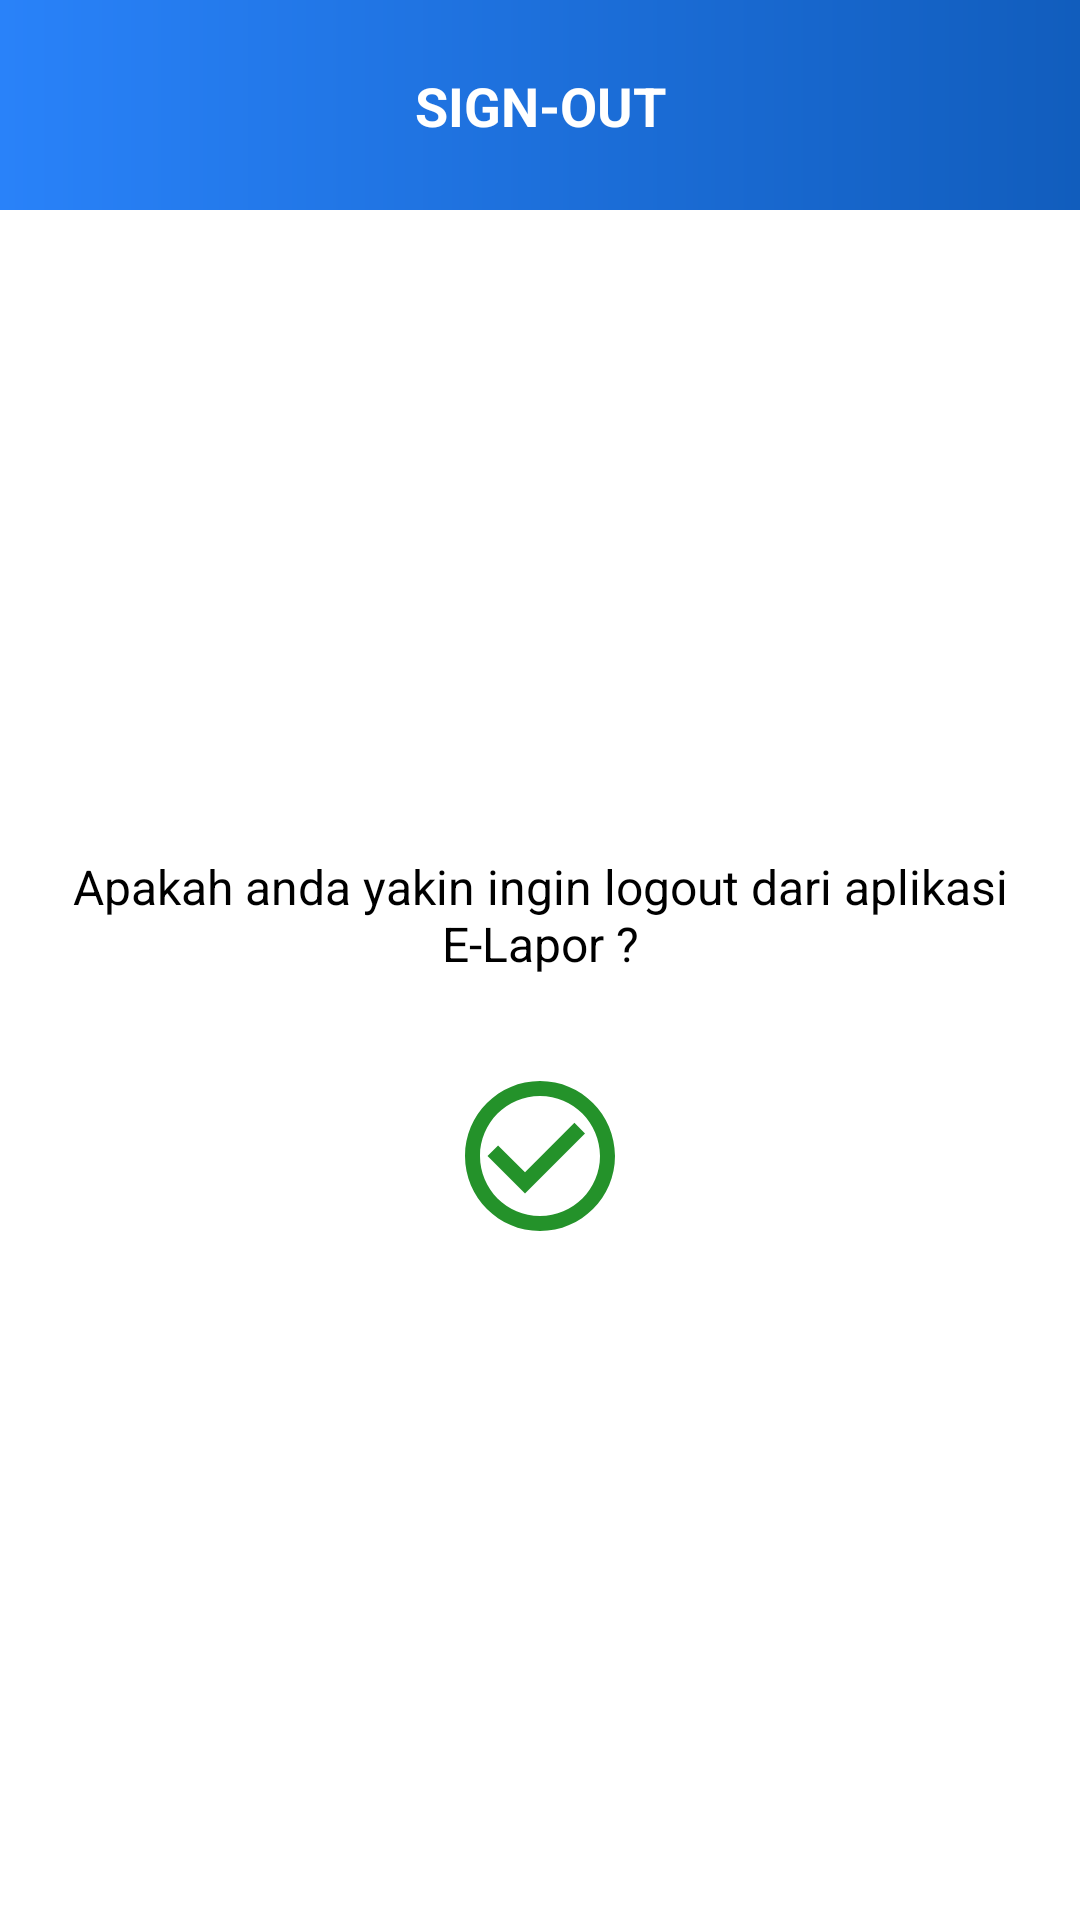

Icons on this 1080x1920 Android screen, each with the point to tap as (x,y):
check circle: (540,1156)
